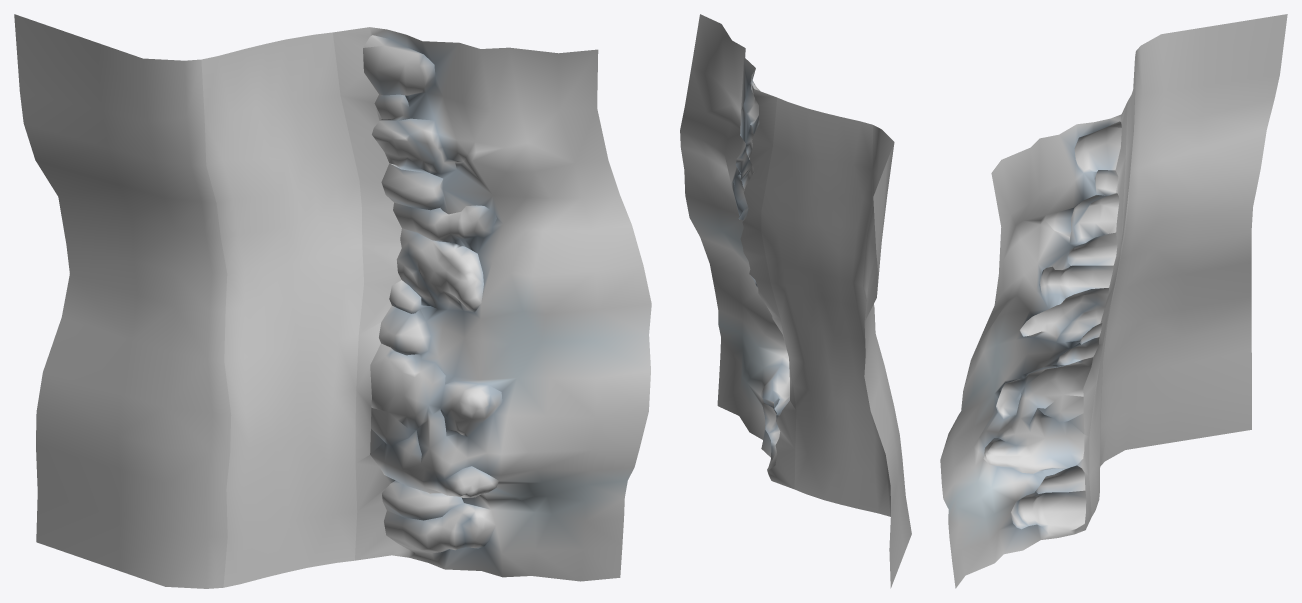
The model's file is Snow_RampStraightB.glb.
3 views of the same model, side by side, from view 1: azimuth 30°, elevation 25°; view 2: azimuth 150°, elevation 25°; view 3: azimuth 270°, elevation 25° (orthographic). The views are drawn at different scales.
Visible parts, largest first — view 1: MeshNode_1, MeshNode_2; view 2: MeshNode_1, MeshNode_2; view 3: MeshNode_1, MeshNode_2.
Part boxes in pixels (left/top/right/bottom): MeshNode_1: left=14, top=14, right=651, bottom=588; MeshNode_2: left=201, top=32, right=363, bottom=587; MeshNode_1: left=680, top=14, right=911, bottom=588; MeshNode_2: left=761, top=97, right=890, bottom=516; MeshNode_1: left=940, top=14, right=1287, bottom=588; MeshNode_2: left=1089, top=52, right=1135, bottom=516.
Size of the model in its own units: 115 by 128 by 96.9.
